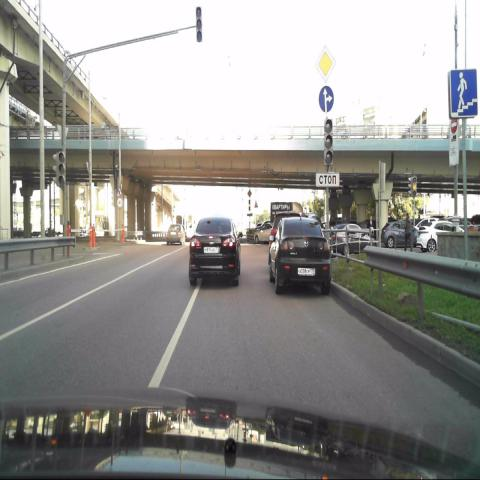4_1_4: (318, 86, 334, 114)
